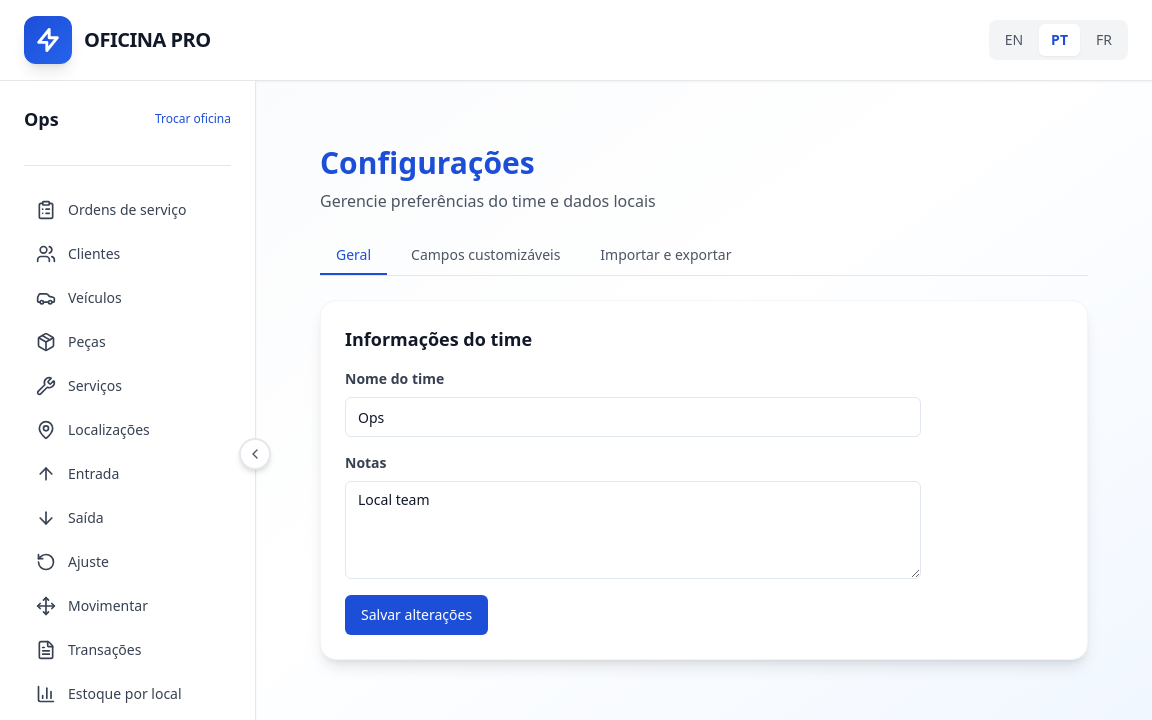
Test: TeamSettingsPage › shows import and export actions
Expected: the heading "Configurações" is shown, [320,142,535,183]
What coordinates should you click on to do the following:
click the button "Importar e exportar"
I would click on:
 (666, 256)
Its box is [584,237,748,275].
(page scrolled)
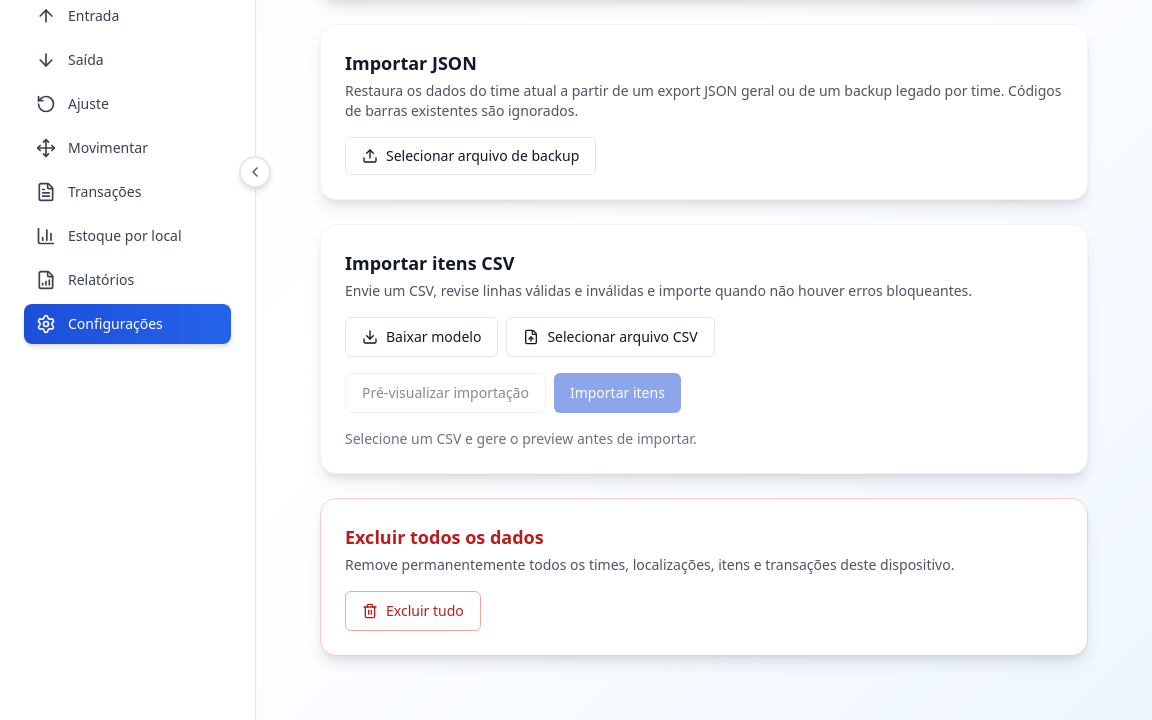
Expected: the heading "Importar itens CSV" is shown, [345,251,514,275]
Expected: the button "Excluir tudo" is shown, [345,591,481,631]
